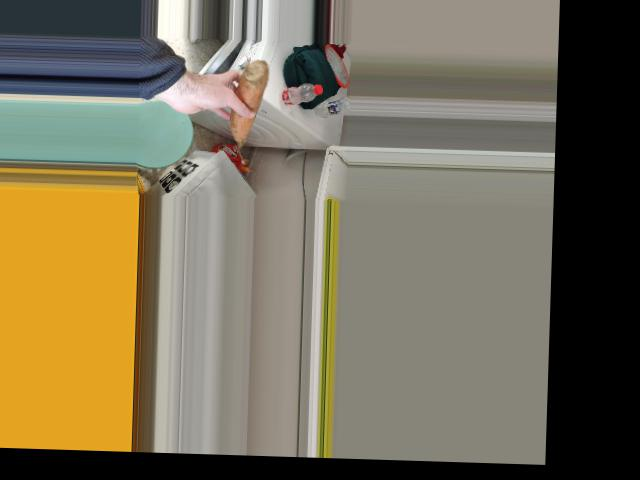sweet_potato: (234, 59, 263, 151)
